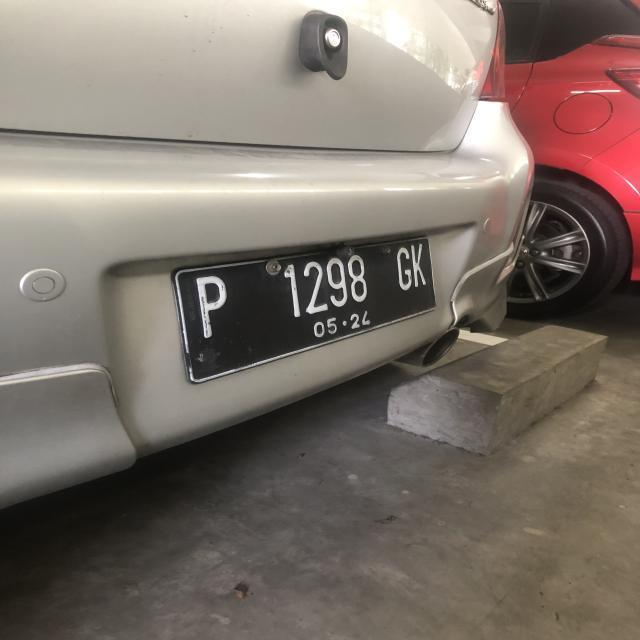1: (281, 260, 304, 318)
2: (302, 258, 326, 319)
8: (350, 254, 370, 304)
9: (325, 256, 350, 308)
G: (397, 245, 413, 290)
K: (409, 243, 430, 290)
P: (194, 274, 227, 341)
